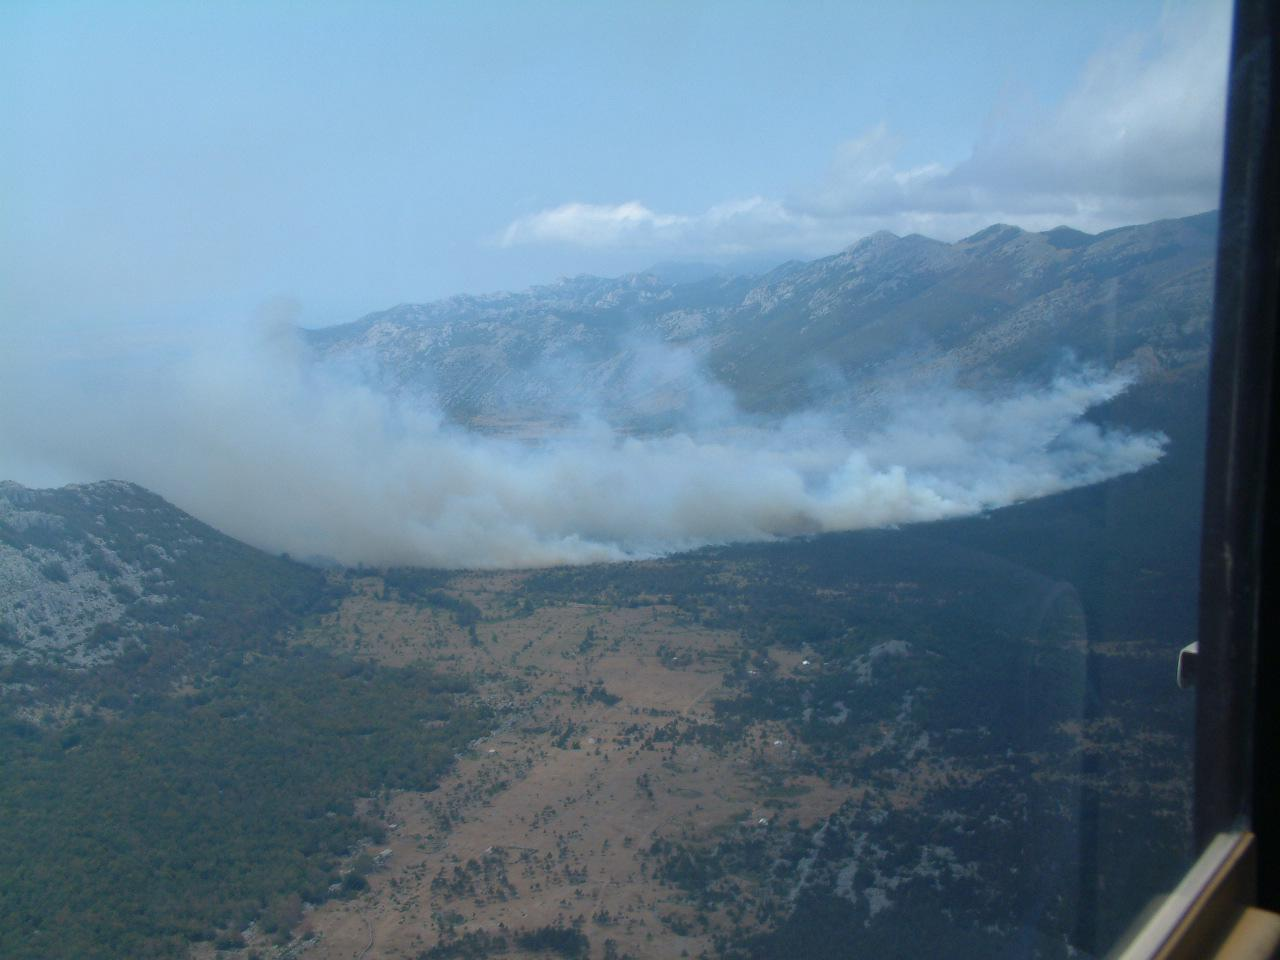Smoke: (4, 194, 1179, 552)
